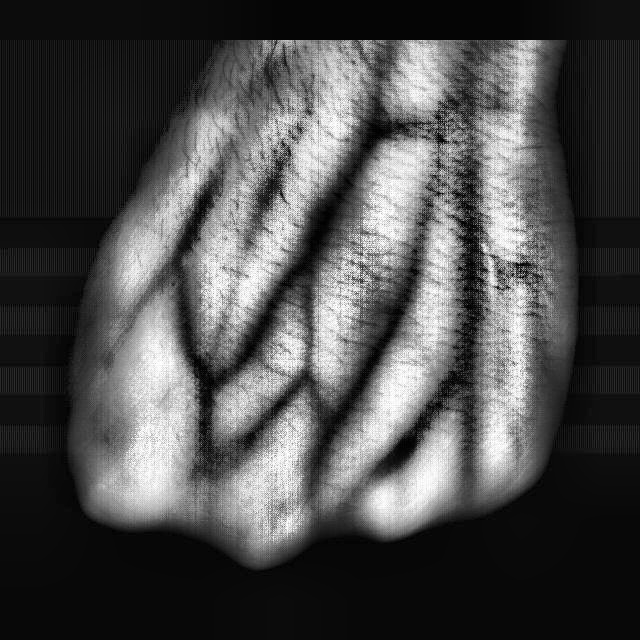Vein: (349, 166, 457, 399), (163, 78, 271, 255), (455, 120, 484, 353)
